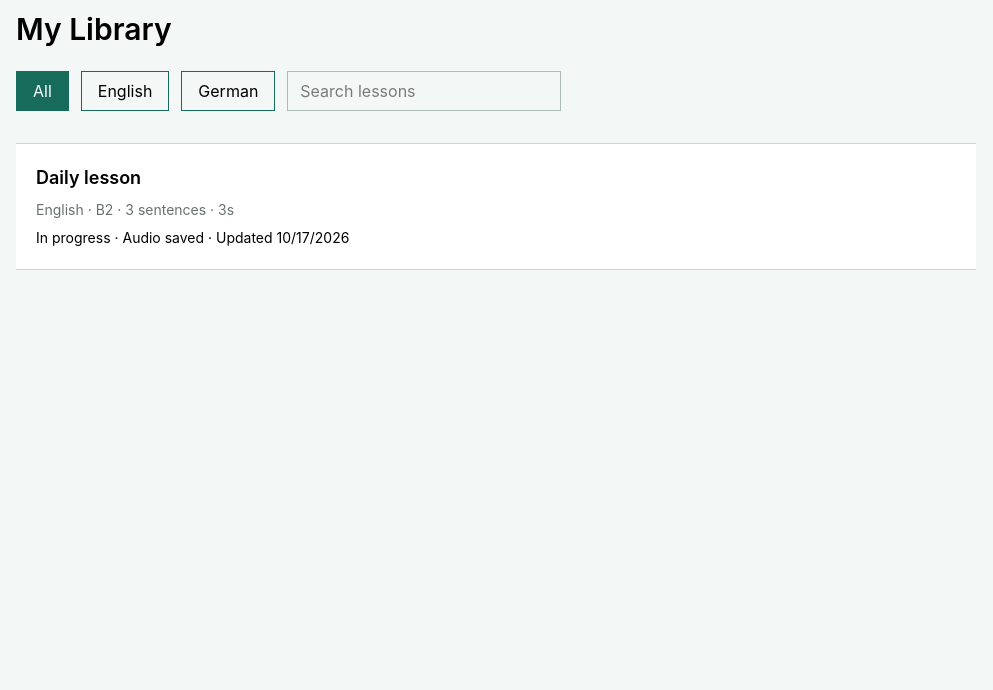
Test case: My Library › loads detail and displays transcript timestamps and translations
Click the button "Daily lesson" at (89, 178), box [36, 164, 956, 248]
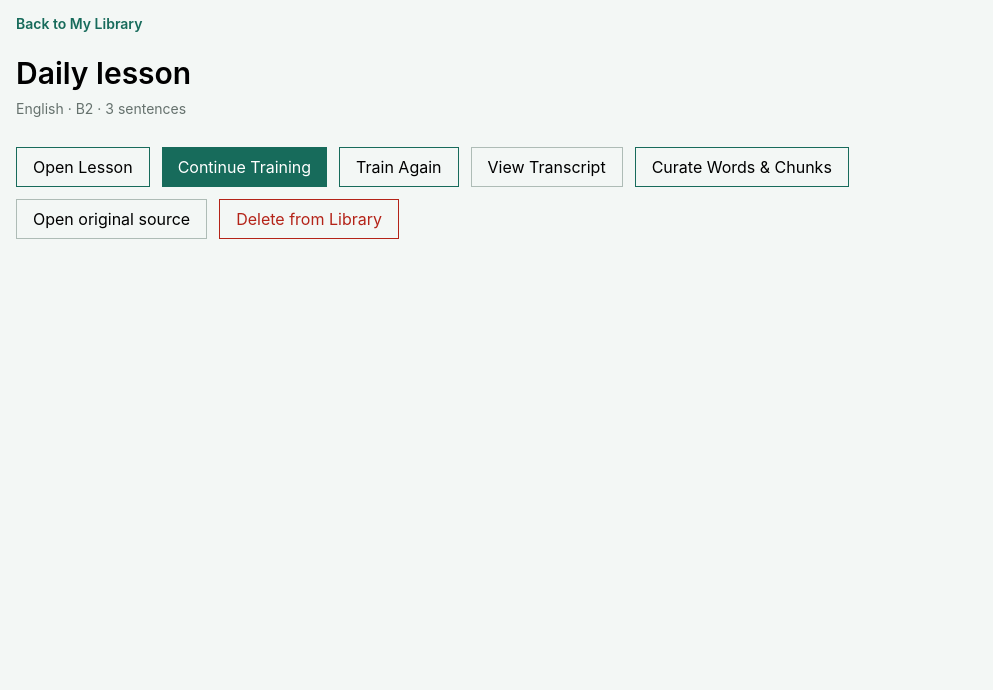
Click the button "View Transcript" at (547, 167), box [470, 147, 623, 187]
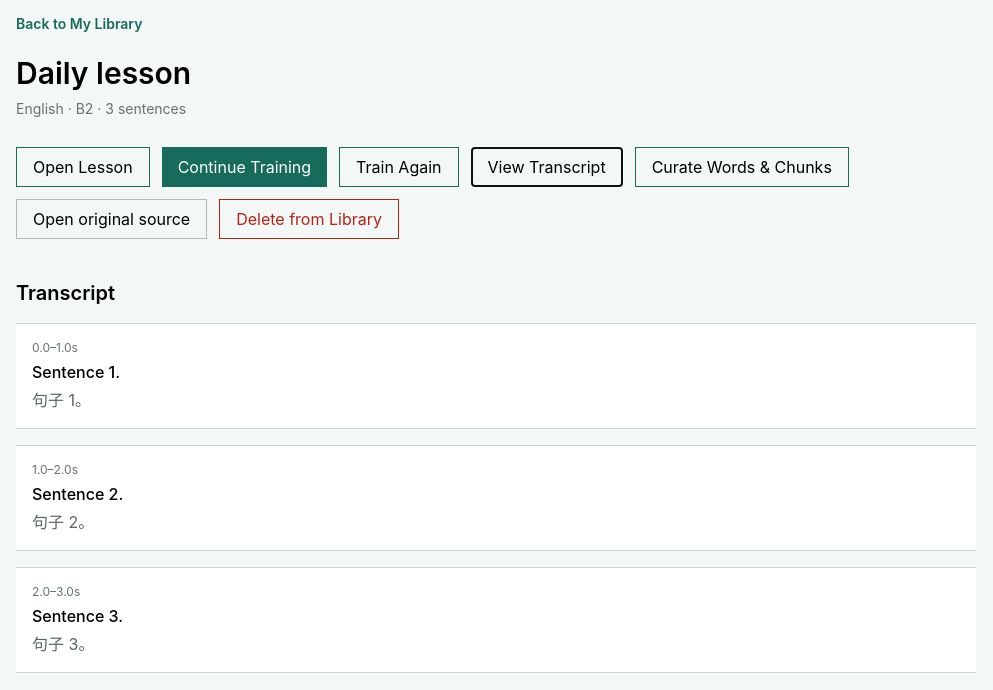
Expected: the heading "Transcript" is shown, [16, 281, 115, 305]
Expected: the text "Sentence 3." is shown, [32, 606, 123, 626]
Expected: the text "句子 3。" is shown, [32, 634, 94, 654]
